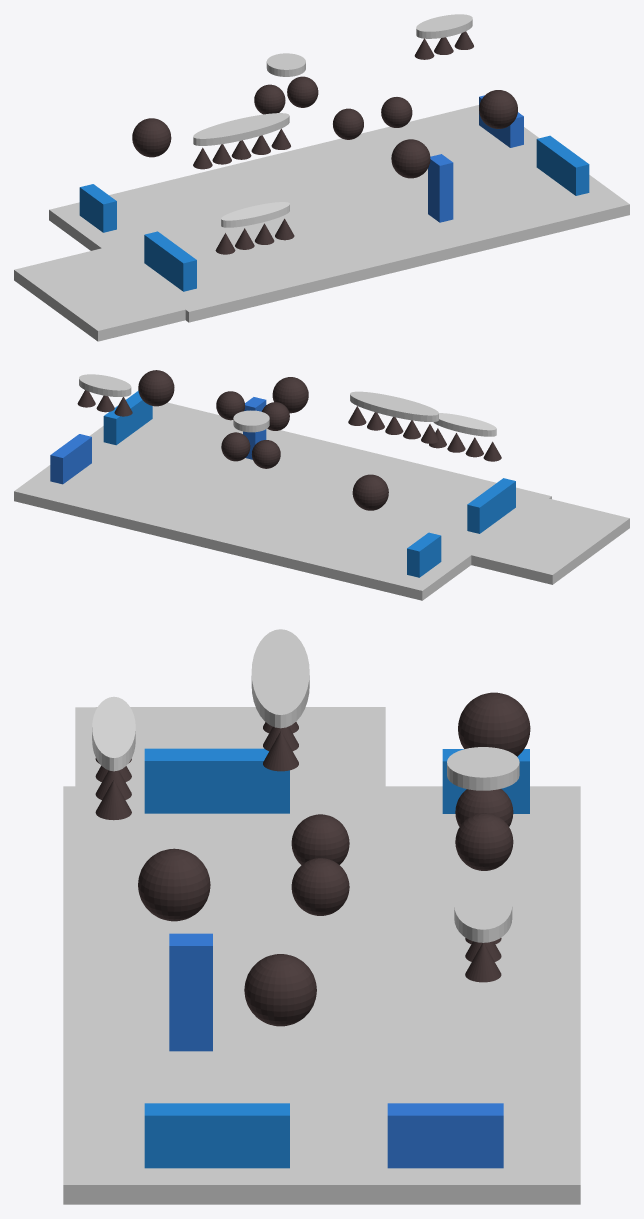
Rendered from home_simplified.gltf.
3 renders of one model, top to bottom at view 1: azimuth 30°, elevation 25°; view 2: azimuth 150°, elevation 25°; view 3: azimuth 270°, elevation 25°, orthographic. The views are drawn at different scales.
Parts seen in each view (by area): view 1: Plane, Office Heater, Livingroom Heater, Livingroom Center Light Group, Bathroom Heater, Kitchen Heater, Bathroom, Kitchen, Office Bulb, Livingroom Malms Light Group, Bedroom Light Group, Hallway Light Group (+5 smaller); view 2: Plane, Livingroom Heater, Livingroom Center Light Group, Bedroom Heater, Office Heater, Kitchen Heater, Office Bulb, Kitchen, Bathroom, Bedroom Light Group, Livingroom Malms Light Group, Hallway Light Group (+5 smaller); view 3: Plane, Office Heater, Livingroom Heater, Bedroom Heater, Bathroom Heater, Livingroom Center Light Group, Bathroom, Office Bulb, Kitchen, Bedroom Light Group, Hallway Light Group, Livingroom Malms Light Group (+8 smaller).
Boxes of the visible parts, <box> form: Plane: <box>14,105,629,341</box>; Office Heater: <box>536,135,589,195</box>; Livingroom Heater: <box>144,231,196,291</box>; Livingroom Center Light Group: <box>193,113,289,145</box>; Bathroom Heater: <box>428,154,453,222</box>; Kitchen Heater: <box>79,184,116,232</box>; Bathroom: <box>391,139,430,178</box>; Kitchen: <box>132,118,171,157</box>; Office Bulb: <box>479,90,517,128</box>; Livingroom Malms Light Group: <box>221,202,289,227</box>; Bedroom Light Group: <box>416,14,472,38</box>; Hallway Light Group: <box>266,53,305,76</box>; Plane: <box>14,402,629,600</box>; Livingroom Heater: <box>467,478,515,533</box>; Livingroom Center Light Group: <box>350,391,438,421</box>; Bedroom Heater: <box>50,434,91,484</box>; Office Heater: <box>103,391,152,445</box>; Kitchen Heater: <box>407,532,441,577</box>; Office Bulb: <box>138,370,174,406</box>; Kitchen: <box>352,474,388,510</box>; Bathroom: <box>272,377,308,413</box>; Bedroom Light Group: <box>79,374,131,396</box>; Livingroom Malms Light Group: <box>433,413,496,436</box>; Hallway Light Group: <box>233,410,269,432</box>; Plane: <box>63,707,580,1204</box>; Office Heater: <box>144,1103,289,1168</box>; Livingroom Heater: <box>144,748,289,813</box>; Bedroom Heater: <box>387,1103,503,1168</box>; Bathroom Heater: <box>169,933,212,1051</box>; Livingroom Center Light Group: <box>251,629,309,728</box>; Bathroom: <box>138,848,210,921</box>; Office Bulb: <box>244,954,316,1026</box>; Kitchen: <box>458,692,530,756</box>; Bedroom Light Group: <box>454,880,512,942</box>; Hallway Light Group: <box>447,747,519,790</box>; Livingroom Malms Light Group: <box>92,696,135,771</box>.
Bounding box in the file's own units: 15.57 × 3.56 × 7.12.
